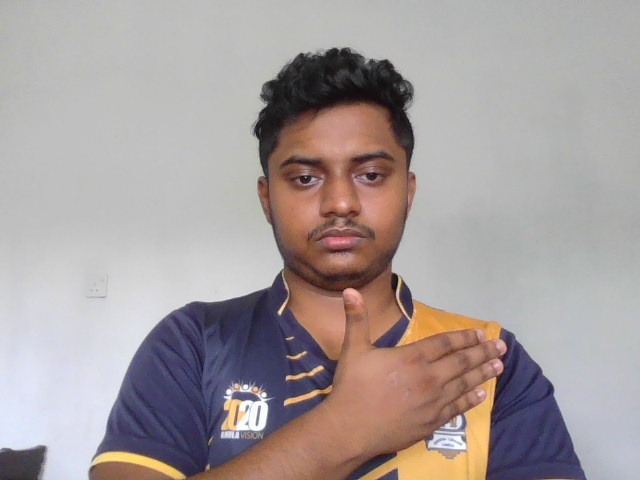Please: (323, 288, 509, 460)
